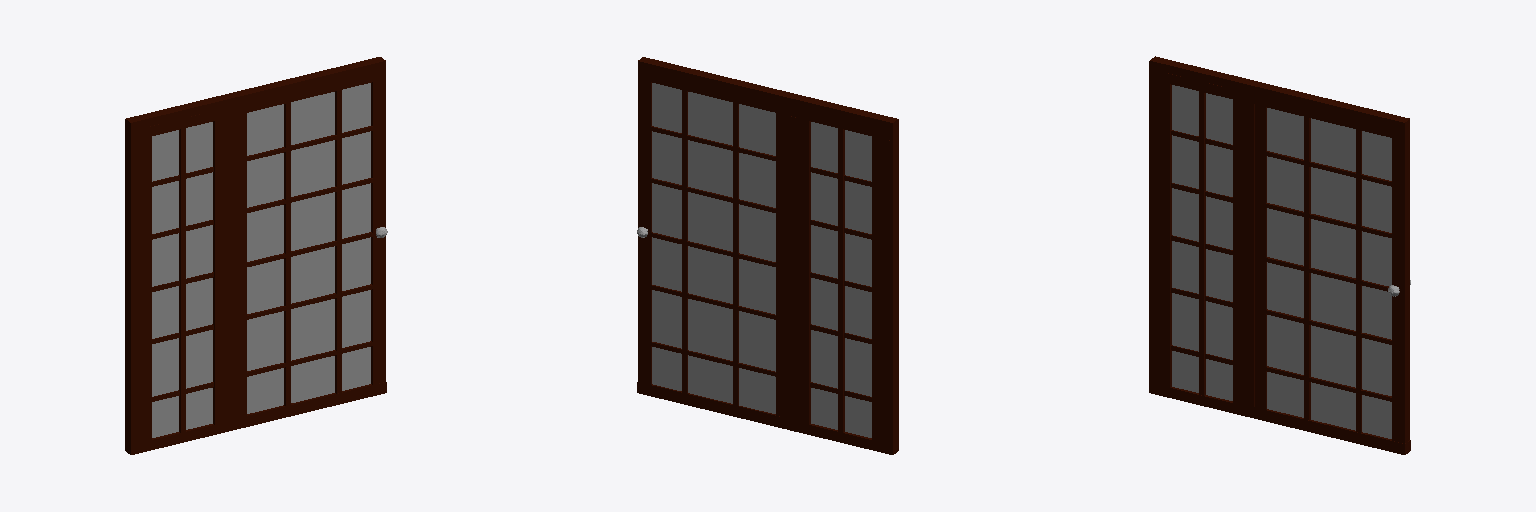
File: patioGlassDoorUnit.obj
The picture shows the model from 3 angles: view 1: azimuth 30°, elevation 25°; view 2: azimuth 150°, elevation 25°; view 3: azimuth 330°, elevation 25°; orthographic projection.
Parts seen in each view (by area): view 1: sweethome3d_window_pane, sweethome3d_window_pane_1, Cube_11_1, right, Cube_7, Cube_7_1, left, Cube_11, Cube_12, Cube_4_2, Cube_4_1, Cube_4 (+10 smaller); view 2: sweethome3d_window_pane, sweethome3d_window_pane_1, Cube_11_1, Cube_7, right, Cube_7_1, left, Cube_11, Cube_12, Cube_4_2, bottom, Cube_4_1 (+10 smaller); view 3: sweethome3d_window_pane, sweethome3d_window_pane_1, right, Cube_7_1, Cube_7, left, Cube_11, Cube_11_1, Cube_12, Cube_4_2, Cube_4_1, bottom (+10 smaller).
Boxes of the visible parts, x1,y1,x2,y2 form: sweethome3d_window_pane: [247, 83, 370, 413]; sweethome3d_window_pane_1: [152, 122, 212, 437]; Cube_11_1: [125, 137, 139, 454]; right: [371, 79, 385, 384]; Cube_7: [213, 118, 226, 434]; Cube_7_1: [140, 136, 151, 452]; left: [236, 113, 246, 417]; Cube_11: [227, 116, 235, 431]; Cube_12: [221, 57, 385, 108]; Cube_4_2: [179, 128, 185, 432]; Cube_4_1: [284, 102, 290, 405]; Cube_4: [335, 90, 341, 393]; sweethome3d_window_pane: [652, 83, 775, 413]; sweethome3d_window_pane_1: [811, 122, 871, 437]; Cube_11_1: [884, 137, 898, 454]; Cube_7: [797, 118, 810, 434]; right: [638, 79, 651, 384]; Cube_7_1: [872, 136, 883, 452]; left: [776, 113, 787, 417]; Cube_11: [788, 116, 796, 431]; Cube_12: [638, 57, 801, 108]; Cube_4_2: [838, 128, 844, 432]; bottom: [637, 382, 787, 429]; Cube_4_1: [733, 102, 738, 405]; sweethome3d_window_pane: [1267, 108, 1391, 438]; sweethome3d_window_pane_1: [1172, 85, 1232, 400]; right: [1392, 138, 1409, 443]; Cube_7_1: [1158, 81, 1171, 397]; Cube_7: [1233, 99, 1244, 415]; left: [1255, 105, 1266, 409]; Cube_11: [1245, 102, 1254, 417]; Cube_11_1: [1149, 79, 1157, 394]; Cube_12: [1245, 80, 1409, 131]; Cube_4_2: [1199, 91, 1205, 395]; Cube_4_1: [1304, 117, 1310, 420]; bottom: [1253, 407, 1410, 454].
Bounding box in the file's own units: 11.97 × 14.87 × 1.37.